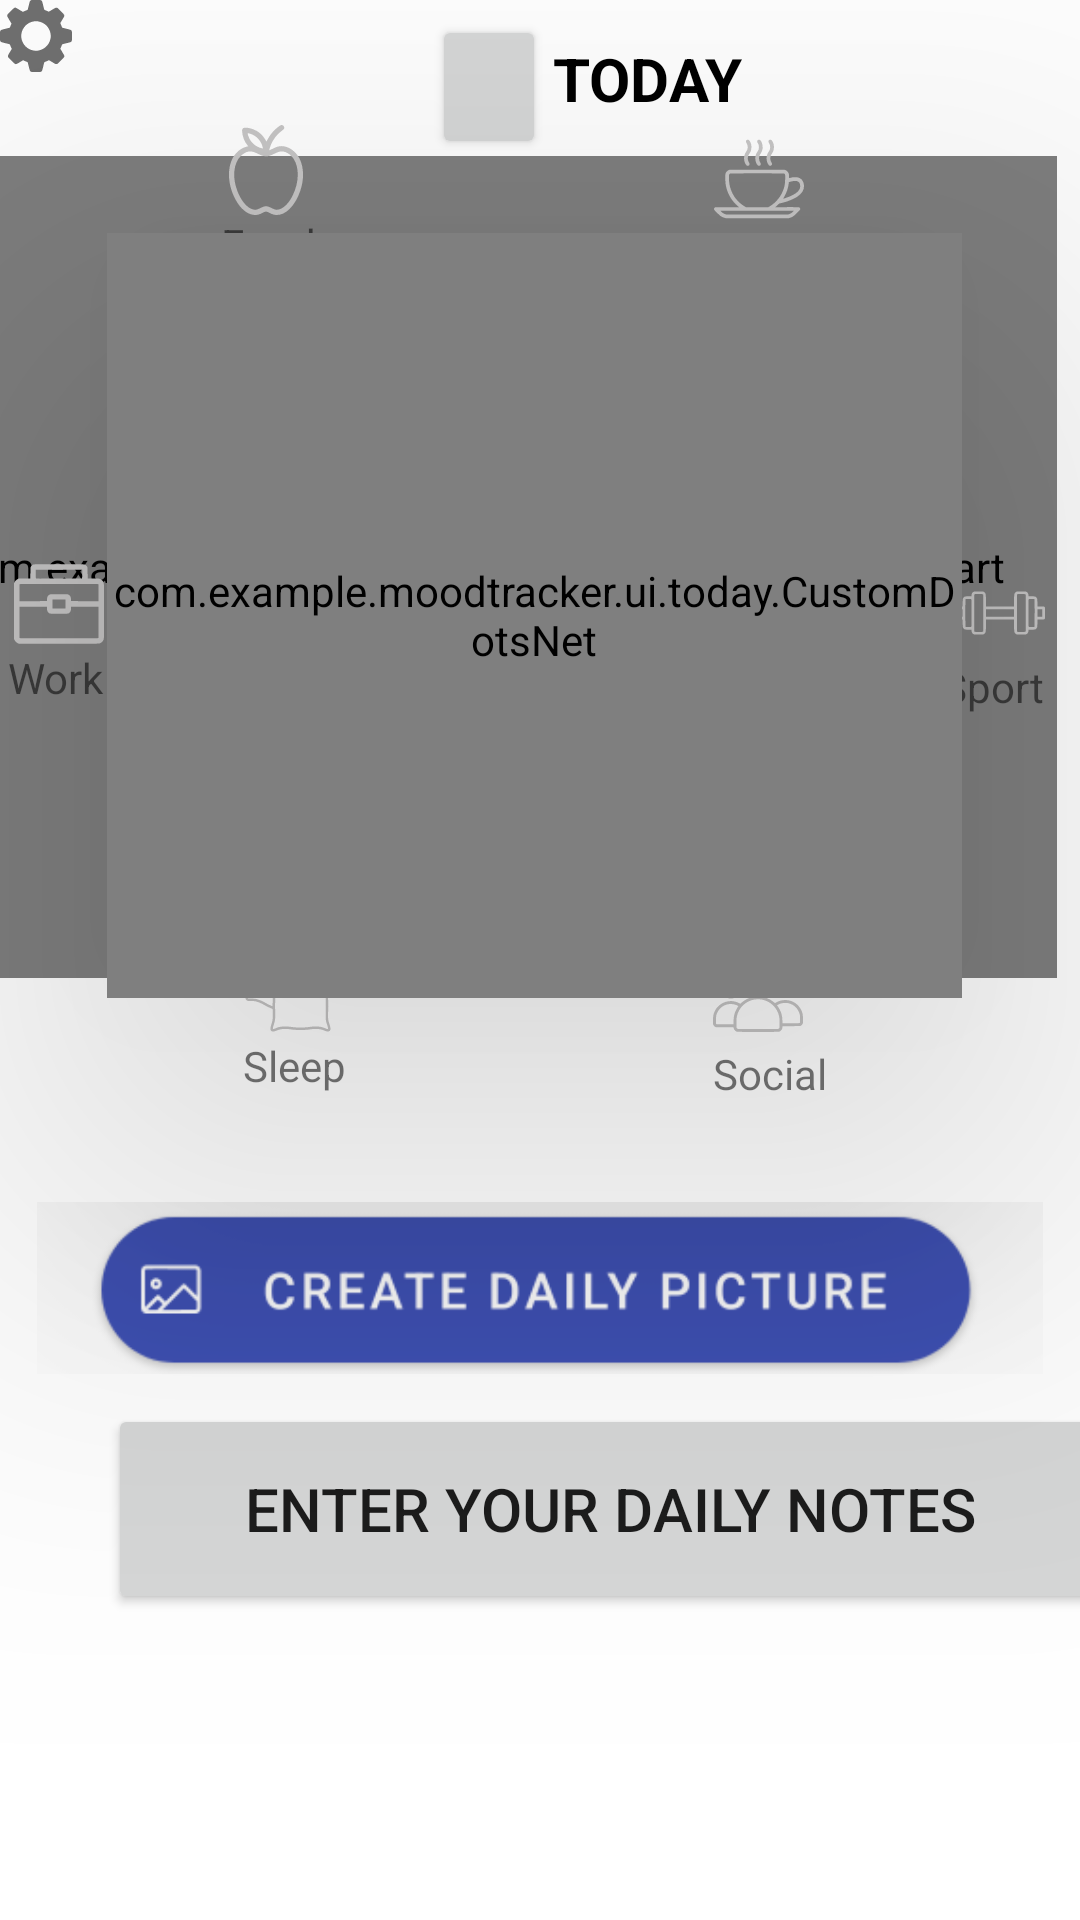

Named icons in this screenshot (1080px x 1920px) and their centers, point (x, y):
apple: point (266, 170)
coffee cup: point (759, 179)
dumbbell: point (1003, 613)
settings: point (36, 36)
